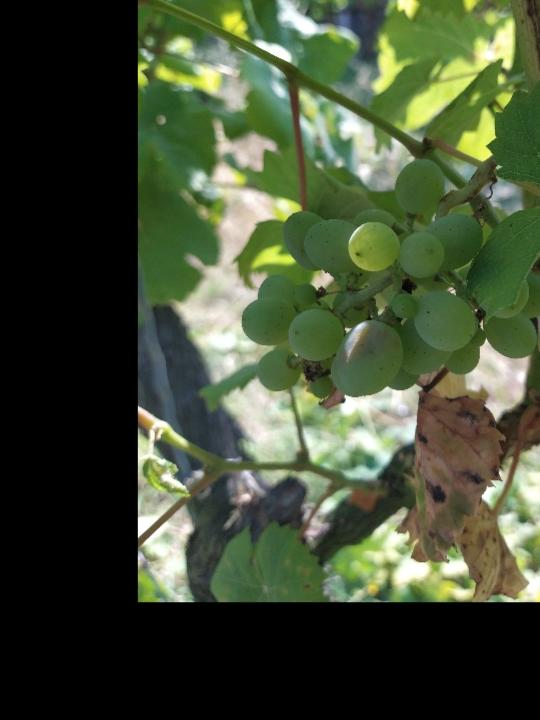grape: (236, 156, 540, 400)
